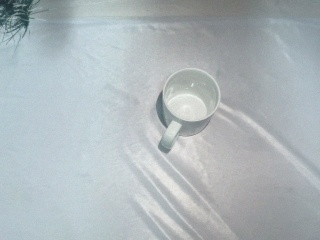cup: (156, 68, 220, 154)
